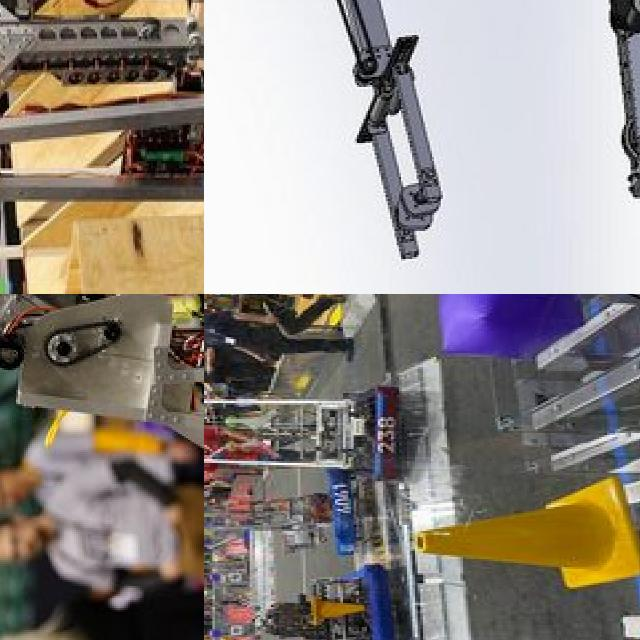FRC-Robots: (207, 0, 640, 294), (0, 294, 204, 640), (0, 0, 204, 294), (204, 367, 416, 469), (225, 561, 421, 640), (205, 474, 392, 548)
